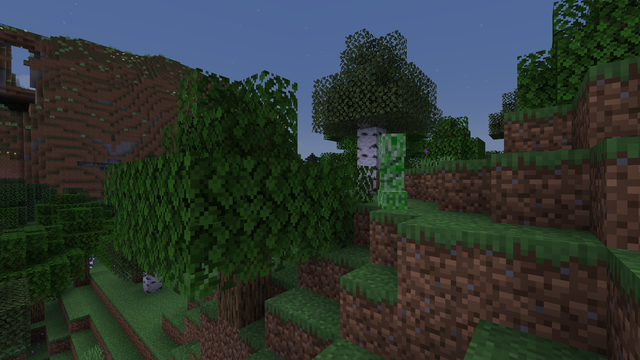creepers: (373, 128, 409, 208)
